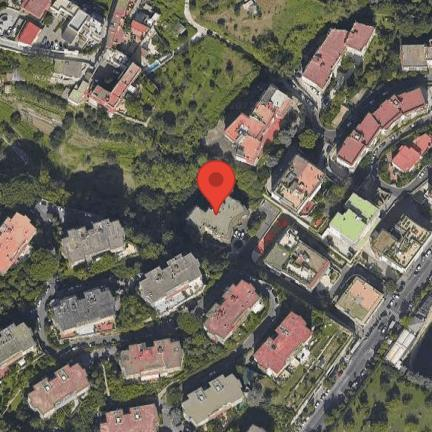area_open: (345, 243, 415, 307), (231, 201, 292, 266), (39, 22, 95, 88), (34, 202, 97, 241), (311, 264, 354, 313), (92, 50, 134, 89), (323, 233, 360, 274), (403, 279, 428, 333), (0, 10, 24, 46)
built: (262, 223, 335, 292), (138, 253, 206, 316), (255, 309, 316, 378), (203, 278, 265, 344), (184, 194, 253, 249), (28, 359, 91, 419), (270, 154, 329, 216), (371, 215, 432, 273), (181, 372, 245, 427), (62, 219, 128, 269), (49, 287, 115, 337), (334, 274, 386, 331), (302, 29, 349, 92), (329, 192, 380, 250), (1, 212, 40, 279), (121, 340, 181, 380), (0, 322, 42, 377), (102, 403, 158, 432), (385, 326, 419, 368), (226, 111, 268, 141), (337, 130, 371, 167), (105, 2, 130, 48), (114, 62, 144, 100), (391, 142, 424, 176), (346, 21, 378, 55), (73, 19, 108, 50), (264, 84, 294, 120), (356, 112, 386, 147), (374, 94, 404, 129), (252, 100, 279, 129), (401, 45, 431, 70), (415, 179, 432, 223), (235, 138, 262, 165), (129, 19, 156, 45), (91, 87, 120, 111), (17, 21, 44, 46), (69, 9, 94, 36), (399, 88, 425, 113), (20, 0, 54, 19), (135, 5, 161, 27), (54, 0, 80, 19), (413, 130, 432, 155), (62, 27, 78, 47), (249, 424, 267, 431)
vegetation_high: (114, 285, 230, 371), (0, 231, 61, 328), (192, 245, 250, 297), (125, 223, 179, 274), (63, 251, 137, 279)
vegetation_low: (0, 34, 266, 236), (192, 1, 432, 137), (201, 287, 360, 432), (0, 347, 186, 432), (326, 313, 432, 432), (261, 107, 326, 176), (299, 170, 356, 237), (142, 1, 196, 65), (213, 162, 273, 218), (380, 154, 412, 186), (79, 0, 112, 22)
